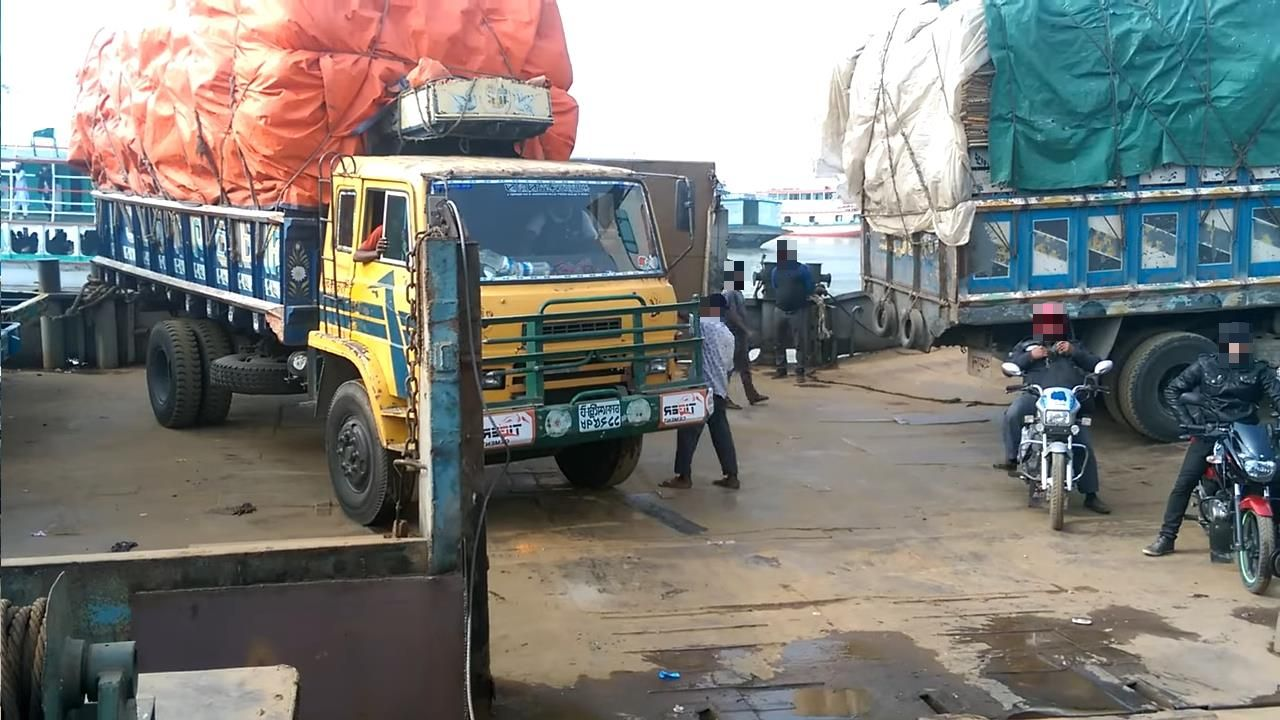bike: (1181, 395, 1280, 599), (1005, 360, 1112, 530)
truck: (94, 130, 719, 525), (860, 129, 1280, 440)
